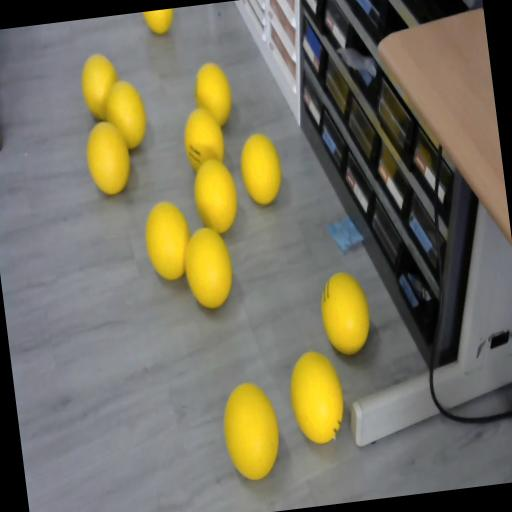FUEL: (218, 378, 284, 481), (284, 346, 348, 446), (178, 222, 238, 312), (316, 266, 374, 357), (141, 198, 195, 282), (190, 156, 242, 236), (83, 118, 135, 197), (236, 130, 285, 208), (78, 51, 122, 122), (192, 60, 236, 128), (142, 8, 177, 37)
